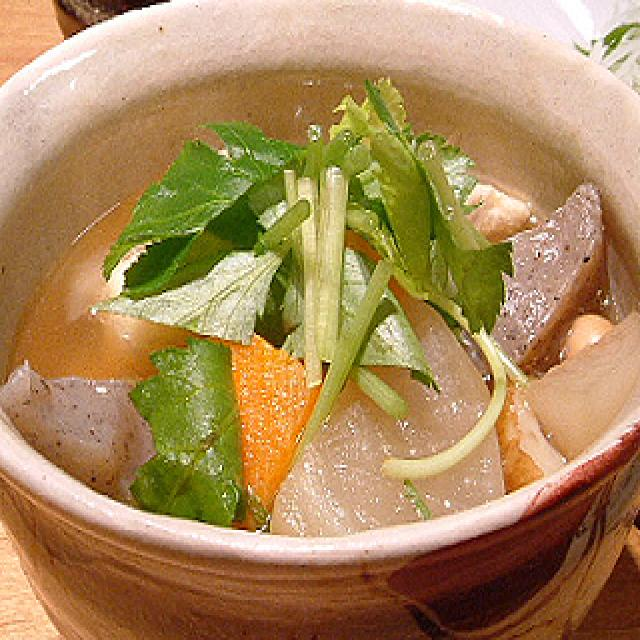蔬菜料理: (0, 0, 640, 558)
